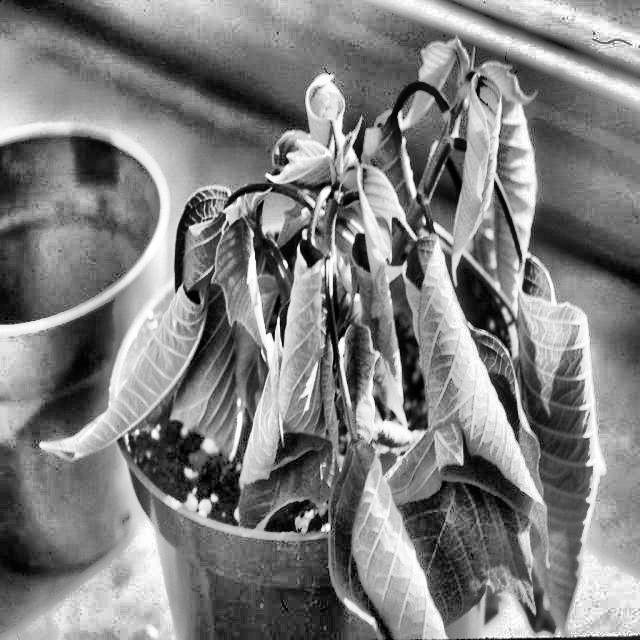plants: (105, 35, 594, 639)
